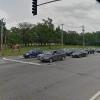Traffic light: (27, 0, 44, 22)
